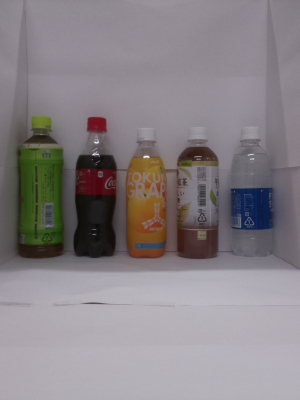おーいお茶: (13, 109, 67, 267)
グレープフルーツスカッシュ: (122, 121, 172, 264)
コーラ: (71, 108, 121, 263)
ポカリスエット: (225, 123, 281, 262)
午後の紅茶: (172, 122, 224, 263)
